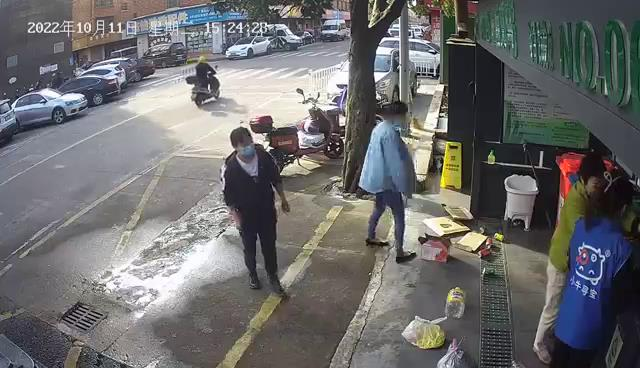garbage-bag: (399, 315, 449, 349), (436, 337, 479, 368)
lvzhipin: (478, 247, 491, 257), (482, 267, 496, 276), (494, 233, 505, 241), (486, 238, 493, 246)
person: (532, 153, 611, 366), (219, 126, 290, 299)
suliaozhipin: (444, 285, 467, 320)
worker: (549, 171, 639, 368), (356, 101, 418, 264)
zhizhipin: (418, 233, 452, 265), (422, 215, 471, 235), (454, 230, 489, 253), (442, 202, 474, 222)
